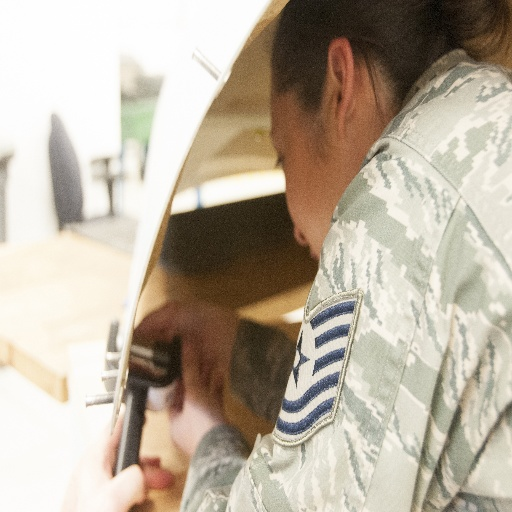hand: (60, 404, 148, 511), (131, 296, 237, 382), (164, 334, 225, 444)
